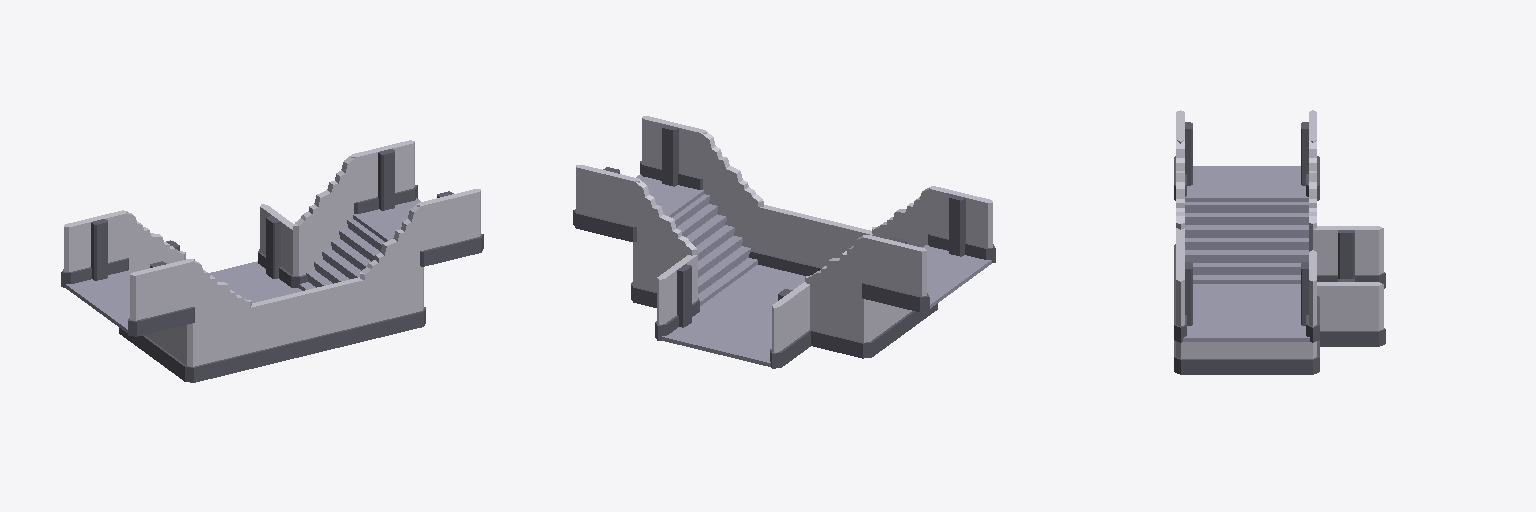
The model's file is intersection_3way_stair_02.obj.
3 renders of one model, left to right at view 1: azimuth 30°, elevation 25°; view 2: azimuth 150°, elevation 25°; view 3: azimuth 270°, elevation 25°, orthographic.
Parts seen in each view (by area): view 1: stairs_01_34, stairs_01_33, wall_02_40, wall_02_42, wall_02_39, wall_01_11, wall_02_43, wall_01_10, wall_02_38, floor_04_37, floor_04_35, floor_04_36; view 2: stairs_01_34, stairs_01_33, wall_02_42, wall_02_43, wall_02_40, wall_02_39, wall_01_10, floor_04_35, floor_01_0, wall_02_38, wall_02_41, floor_04_37 (+2 smaller); view 3: stairs_01_33, stairs_01_34, wall_02_38, floor_04_36, floor_04_37, wall_02_41, floor_01_0, wall_02_39, wall_02_43, wall_02_42, wall_02_40.
Part boxes in pixels (bbox=[...]): stairs_01_34: bbox=[291, 154, 425, 340]; stairs_01_33: bbox=[119, 210, 251, 382]; wall_02_40: bbox=[128, 259, 194, 336]; wall_02_42: bbox=[61, 210, 128, 287]; wall_02_39: bbox=[417, 189, 483, 266]; wall_01_11: bbox=[248, 291, 308, 368]; wall_02_43: bbox=[351, 140, 417, 213]; wall_01_10: bbox=[303, 277, 365, 354]; wall_02_38: bbox=[258, 204, 300, 286]; floor_04_37: bbox=[65, 269, 133, 332]; floor_04_35: bbox=[209, 261, 294, 299]; floor_04_36: bbox=[353, 198, 420, 241]; stairs_01_34: bbox=[631, 130, 763, 307]; stairs_01_33: bbox=[805, 186, 937, 358]; wall_02_42: bbox=[862, 235, 929, 312]; wall_02_43: bbox=[573, 165, 639, 242]; wall_02_40: bbox=[928, 186, 995, 262]; wall_02_39: bbox=[640, 116, 706, 189]; wall_01_10: bbox=[757, 205, 820, 275]; floor_04_35: bbox=[661, 313, 771, 366]; floor_01_0: bbox=[699, 265, 804, 329]; wall_02_38: bbox=[655, 255, 699, 340]; wall_02_41: bbox=[770, 282, 810, 368]; floor_04_37: bbox=[923, 245, 991, 308]; stairs_01_33: bbox=[1174, 140, 1316, 284]; stairs_01_34: bbox=[1174, 252, 1319, 374]; wall_02_38: bbox=[1317, 279, 1385, 346]; floor_04_36: bbox=[1183, 306, 1309, 341]; floor_04_37: bbox=[1185, 166, 1308, 201]; wall_02_41: bbox=[1313, 226, 1385, 288]; floor_01_0: bbox=[1193, 284, 1300, 305]; wall_02_39: bbox=[1174, 250, 1192, 342]; wall_02_43: bbox=[1301, 250, 1319, 342]; wall_02_42: bbox=[1301, 110, 1319, 200]; wall_02_40: bbox=[1174, 110, 1192, 200].
Bounding box in the file's own units: 6.21 × 2 × 3.21.